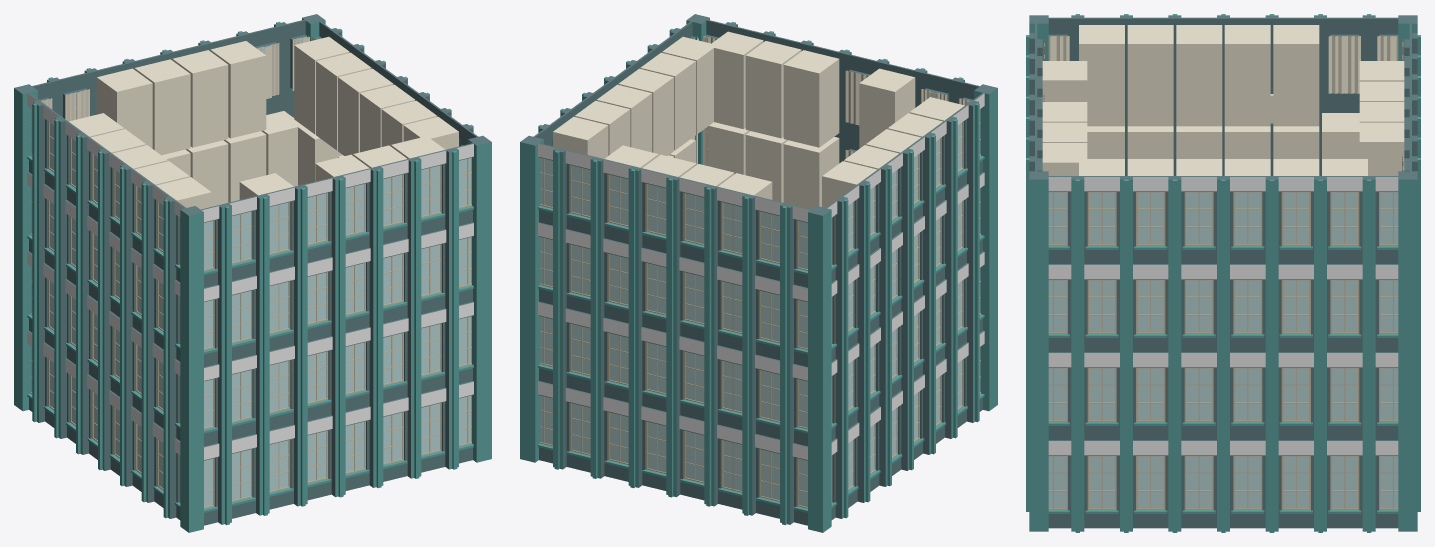
The model's file is KC32__AD_Ext_Bldg_Mid_Blue.glb.
3 renders of one model, left to right at view 1: azimuth 30°, elevation 25°; view 2: azimuth 150°, elevation 25°; view 3: azimuth 270°, elevation 25°, orthographic. The views are drawn at different scales.
Parts seen in each view (by area): view 1: KC32_CORPS__AD_Ext_Bldg_Mid_Blue, KC32_LUMIERE__AD_Ext_Bldg_Mid_Blue, KC32_VITRAGE__AD_Ext_Bldg_Mid_Blue, KC32_ACCENT__AD_Ext_Bldg_Mid_Blue, KC32_BRONZE__AD_Ext_Bldg_Mid_Blue; view 2: KC32_CORPS__AD_Ext_Bldg_Mid_Blue, KC32_LUMIERE__AD_Ext_Bldg_Mid_Blue, KC32_VITRAGE__AD_Ext_Bldg_Mid_Blue, KC32_ACCENT__AD_Ext_Bldg_Mid_Blue, KC32_BRONZE__AD_Ext_Bldg_Mid_Blue; view 3: KC32_CORPS__AD_Ext_Bldg_Mid_Blue, KC32_LUMIERE__AD_Ext_Bldg_Mid_Blue, KC32_VITRAGE__AD_Ext_Bldg_Mid_Blue, KC32_ACCENT__AD_Ext_Bldg_Mid_Blue, KC32_BRONZE__AD_Ext_Bldg_Mid_Blue.
Boxes of the visible parts, <box> form: KC32_CORPS__AD_Ext_Bldg_Mid_Blue: <box>14,14,491,532</box>; KC32_LUMIERE__AD_Ext_Bldg_Mid_Blue: <box>41,36,462,209</box>; KC32_VITRAGE__AD_Ext_Bldg_Mid_Blue: <box>31,36,471,507</box>; KC32_ACCENT__AD_Ext_Bldg_Mid_Blue: <box>27,93,473,459</box>; KC32_BRONZE__AD_Ext_Bldg_Mid_Blue: <box>31,37,471,508</box>; KC32_CORPS__AD_Ext_Bldg_Mid_Blue: <box>520,14,997,532</box>; KC32_LUMIERE__AD_Ext_Bldg_Mid_Blue: <box>549,31,969,209</box>; KC32_VITRAGE__AD_Ext_Bldg_Mid_Blue: <box>540,37,980,507</box>; KC32_ACCENT__AD_Ext_Bldg_Mid_Blue: <box>538,93,984,459</box>; KC32_BRONZE__AD_Ext_Bldg_Mid_Blue: <box>540,37,980,508</box>; KC32_CORPS__AD_Ext_Bldg_Mid_Blue: <box>1026,14,1420,532</box>; KC32_LUMIERE__AD_Ext_Bldg_Mid_Blue: <box>1042,25,1404,175</box>; KC32_VITRAGE__AD_Ext_Bldg_Mid_Blue: <box>1048,192,1398,507</box>; KC32_ACCENT__AD_Ext_Bldg_Mid_Blue: <box>1048,177,1398,455</box>; KC32_BRONZE__AD_Ext_Bldg_Mid_Blue: <box>1048,192,1398,509</box>.
Bounding box in the file's own units: 12.2 × 12 × 12.2.
